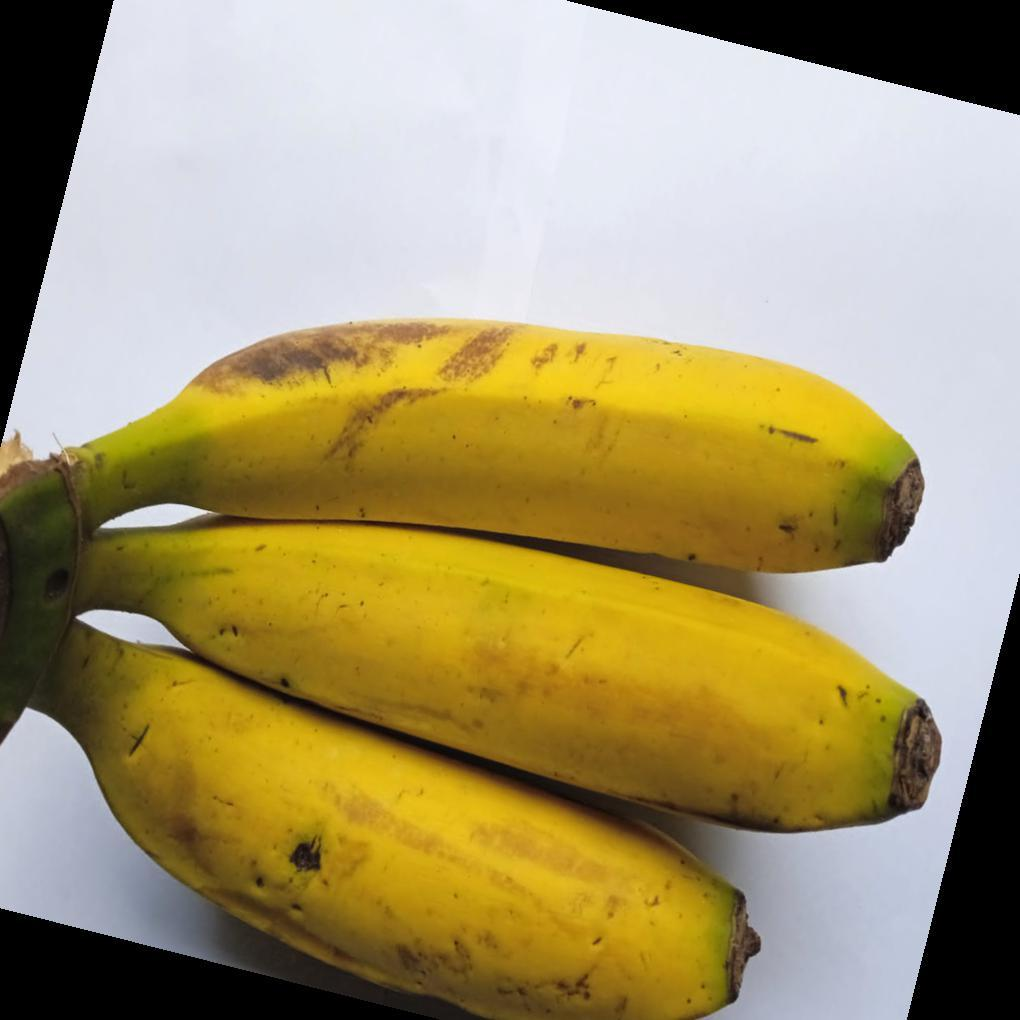Banana Ripe: (89, 237, 966, 1020), (22, 283, 1020, 854), (38, 486, 996, 1019)
